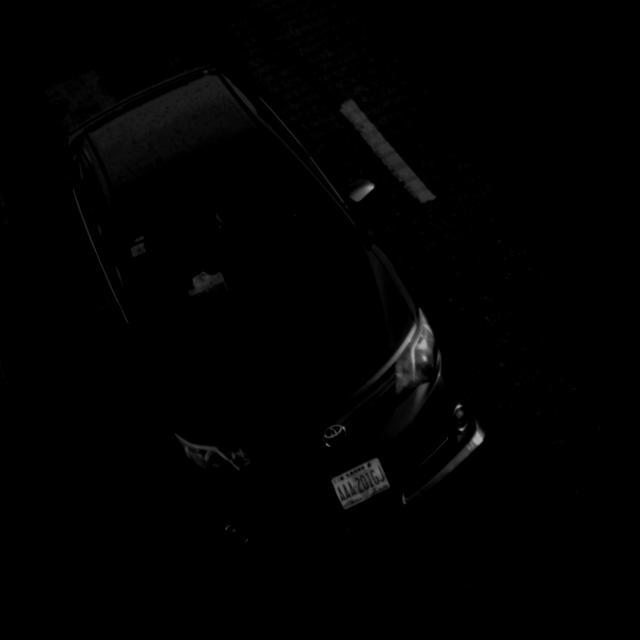windshield: (89, 135, 351, 327)
